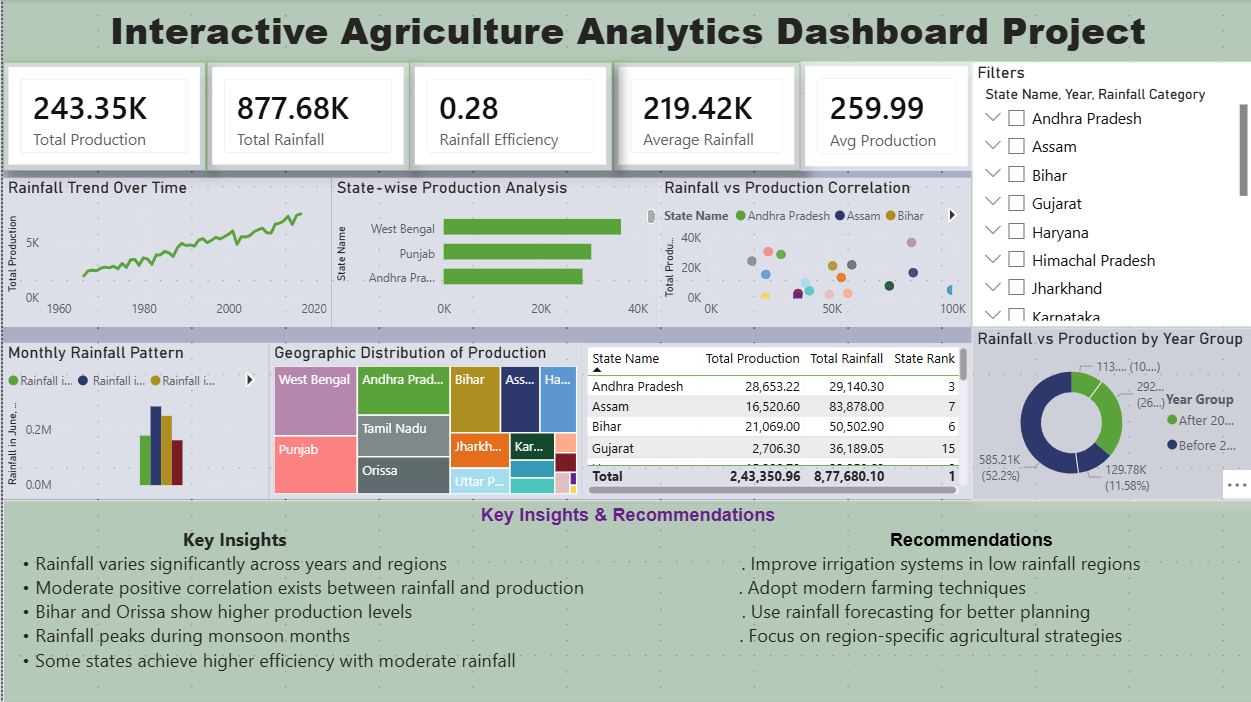

This screenshot's page, from the dashboard's own definition file:
{"tool":"powerbi","page":{"name":"Agriculture Dashboard","canvas":[1280,720],"ordinal":2},"visuals":[{"type":"textbox","box":[0,0,1280,80],"z":0},{"type":"cardVisual","fields":{"Data":["rain-agriculture.Total Production"]},"box":[0,64,208,112],"z":1000},{"type":"cardVisual","fields":{"Data":["rain-agriculture.Total Rainfall"]},"box":[208,64,208,112],"z":2000},{"type":"cardVisual","fields":{"Data":["rain-agriculture.Average Rainfall"]},"box":[624,64,192,112],"z":3000},{"type":"cardVisual","fields":{"Data":["rain-agriculture.Rainfall Efficiency"]},"box":[416,64,208,112],"z":4000},{"type":"lineChart","title":"Rainfall Trend Over Time","fields":{"Category":["rain-agriculture.Year"],"Y":["rain-agriculture.Total Production"]},"box":[0,183.4,336.3,152.9],"z":5000},{"type":"clusteredBarChart","title":"State-wise Production Analysis","fields":{"Category":["rain-agriculture.State Name"],"Y":["rain-agriculture.Total Production"]},"box":[336.3,183.4,336.3,152.9],"z":6000},{"type":"scatterChart","title":"Rainfall vs Production Correlation","fields":{"X":["rain-agriculture.Total Rainfall"],"Y":["rain-agriculture.Total Production"],"Series":["rain-agriculture.State Name"]},"box":[672.6,183.4,319.2,152.9],"z":7000},{"type":"clusteredColumnChart","title":"Monthly Rainfall Pattern","fields":{"Y":["Sum(rain-agriculture.Rainfall in June)","Sum(rain-agriculture.Rainfall in July)","Sum(rain-agriculture.Rainfall in August)","Sum(rain-agriculture.Rainfall in September)"]},"box":[0,352,272,160],"z":8000},{"type":"treemap","title":"Geographic Distribution of Production","fields":{"Group":["rain-agriculture.State Name"],"Values":["rain-agriculture.Total Production"]},"box":[272,352,320,160],"z":9000},{"type":"slicer","title":"Filters","fields":{"Values":["rain-agriculture.State Name","rain-agriculture.Year","rain-agriculture.Rainfall Category"]},"box":[992,64,288,272],"z":10000},{"type":"tableEx","fields":{"Values":["rain-agriculture.State Name","rain-agriculture.Total Production","rain-agriculture.Total Rainfall","rain-agriculture.State Rank"]},"box":[592,352,400,160],"z":11000},{"type":"donutChart","title":"Rainfall vs Production by Year Group","fields":{"Y":["rain-agriculture.Total Production","rain-agriculture.Total Rainfall","rain-agriculture.TOTAL RAINFALL (MONTH-WISE)"],"Category":["rain-agriculture.Year Group"]},"box":[992,336,288,176],"z":12000},{"type":"textbox","box":[0,513.6,1280.3,206.7],"z":13000},{"type":"cardVisual","fields":{"Data":["rain-agriculture.Avg Production"]},"box":[816,64,176,112],"z":14000}]}

Visuals, with their boxes in screenshot pixels (x1, y1, x2, y2), scaled from the page's 1280x720 canvas onto the 1251x702 screenshot:
textbox: [left=0, top=0, right=1250, bottom=78]
cardVisual - rain-agriculture.Total Production: [left=0, top=62, right=203, bottom=172]
cardVisual - rain-agriculture.Total Rainfall: [left=203, top=62, right=407, bottom=172]
cardVisual - rain-agriculture.Average Rainfall: [left=610, top=62, right=798, bottom=172]
cardVisual - rain-agriculture.Rainfall Efficiency: [left=407, top=62, right=610, bottom=172]
"Rainfall Trend Over Time" lineChart: [left=0, top=179, right=329, bottom=328]
"State-wise Production Analysis" clusteredBarChart: [left=329, top=179, right=657, bottom=328]
"Rainfall vs Production Correlation" scatterChart: [left=657, top=179, right=969, bottom=328]
"Monthly Rainfall Pattern" clusteredColumnChart: [left=0, top=343, right=266, bottom=499]
"Geographic Distribution of Production" treemap: [left=266, top=343, right=579, bottom=499]
"Filters" slicer: [left=970, top=62, right=1250, bottom=328]
tableEx - rain-agriculture.State Name x rain-agriculture.Total Production: [left=579, top=343, right=970, bottom=499]
"Rainfall vs Production by Year Group" donutChart: [left=970, top=328, right=1250, bottom=499]
textbox: [left=0, top=501, right=1250, bottom=701]
cardVisual - rain-agriculture.Avg Production: [left=798, top=62, right=970, bottom=172]
